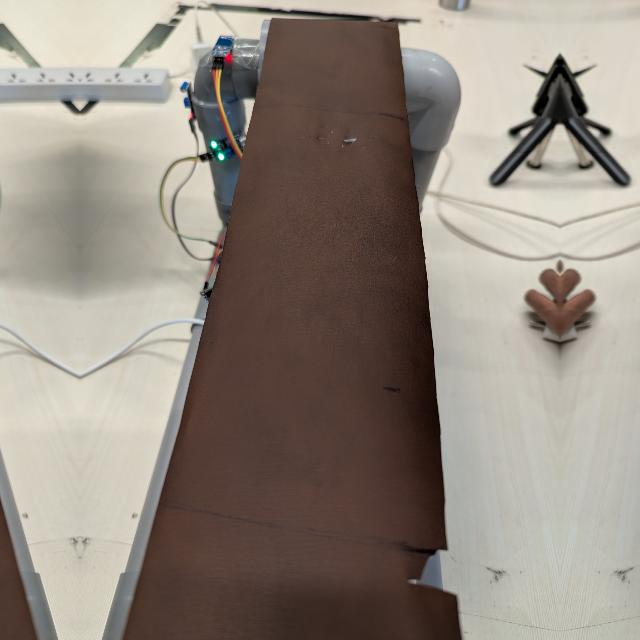belt_crack: (293, 104, 390, 160)
belt_tear: (397, 521, 461, 603)
